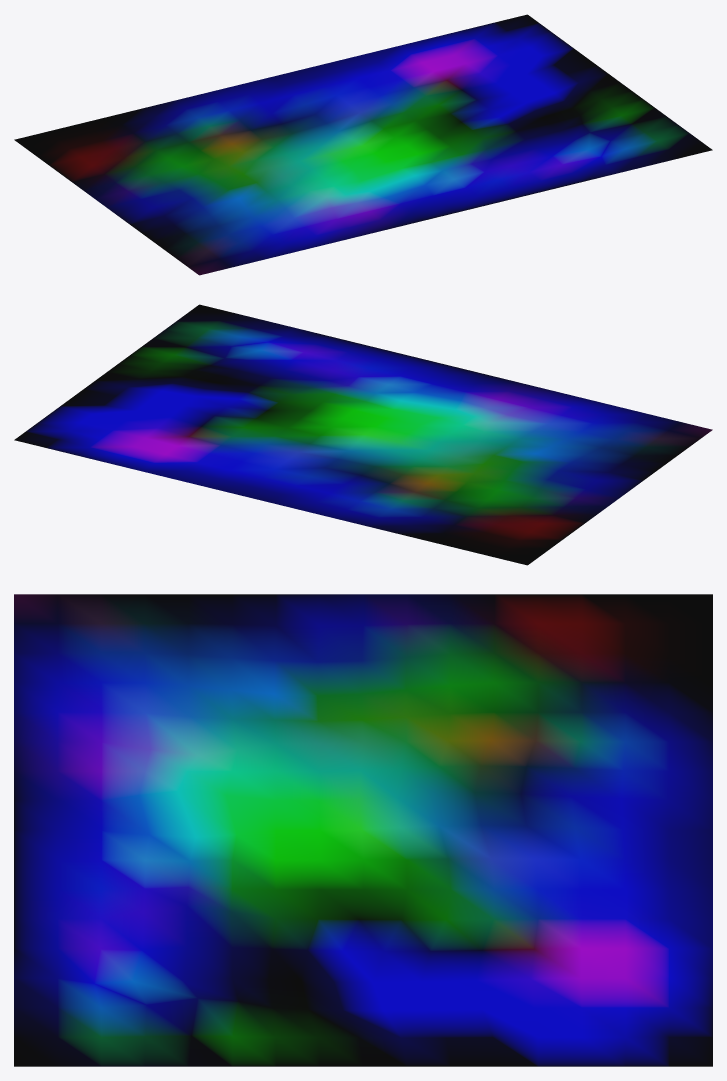
The model's file is M_Env_Sol3.fbx.
3 views of the same model, one above another, from view 1: azimuth 30°, elevation 25°; view 2: azimuth 150°, elevation 25°; view 3: azimuth 270°, elevation 25° (orthographic). The views are drawn at different scales.
Visible parts, largest first — view 1: Plane.039; view 2: Plane.039; view 3: Plane.039.
Part boxes in pixels (<box>): Plane.039: <box>14,14,712,275</box>; Plane.039: <box>14,304,712,565</box>; Plane.039: <box>14,594,712,1066</box>.
Bounding box in the file's own units: 0.0258 × 0.0161 × 5.4e-09.
